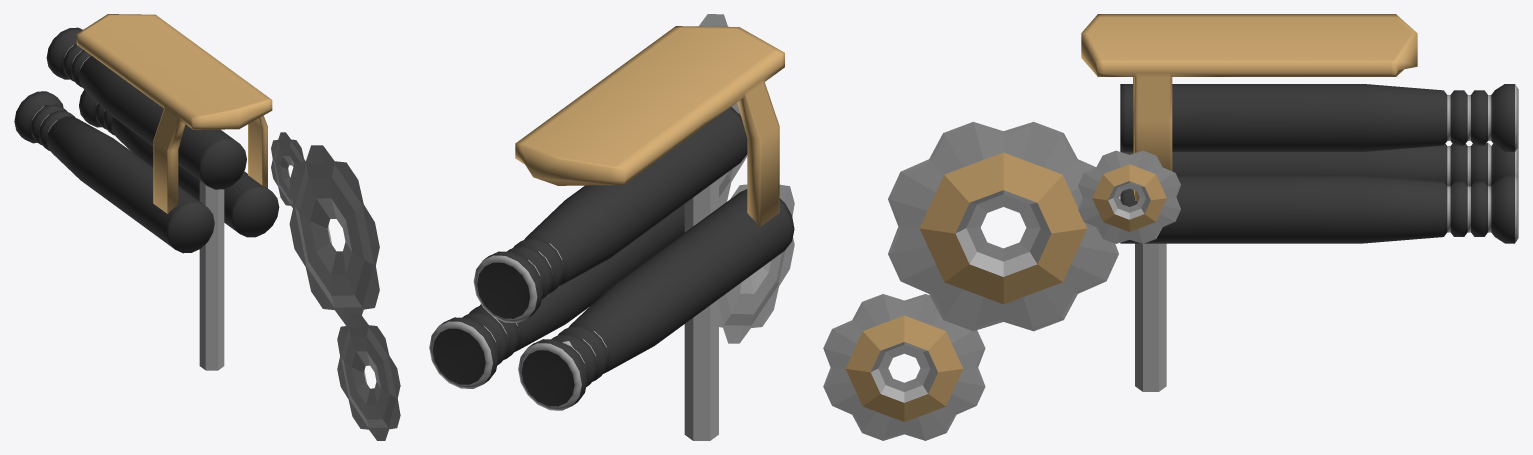
Rendered from gat.fbx.
The picture shows the model from 3 angles, left to right: view 1: azimuth 30°, elevation 25°; view 2: azimuth 150°, elevation 25°; view 3: azimuth 270°, elevation 25°; orthographic projection. The views are drawn at different scales.
Parts seen in each view (by area): view 1: Gat; view 2: Gat; view 3: Gat.
Boxes of the visible parts, bbox=[...] form: Gat: bbox=[14, 14, 400, 440]; Gat: bbox=[429, 14, 794, 440]; Gat: bbox=[823, 14, 1518, 440].
Size of the model in its own units: 61.31 by 128 by 219.
